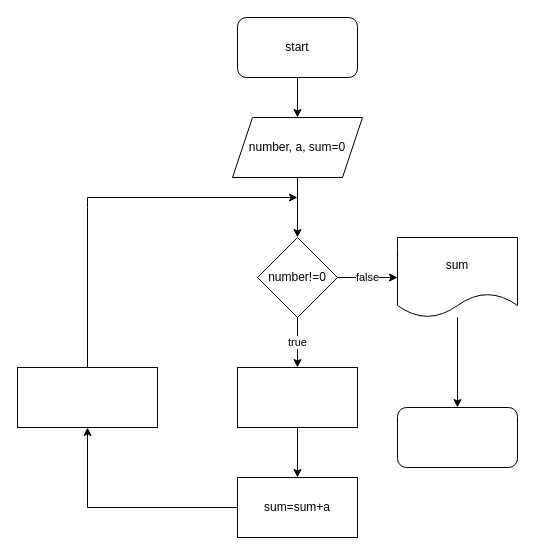
The diagram is 535 pixels wide and 555 high, and some of its shapes have lost their labels. Each missing label, with the centre of its shape:
"a=number%10" belongs at point (297, 397).
"end" belongs at point (457, 437).
"number=(number-a)/10" belongs at point (87, 397).
